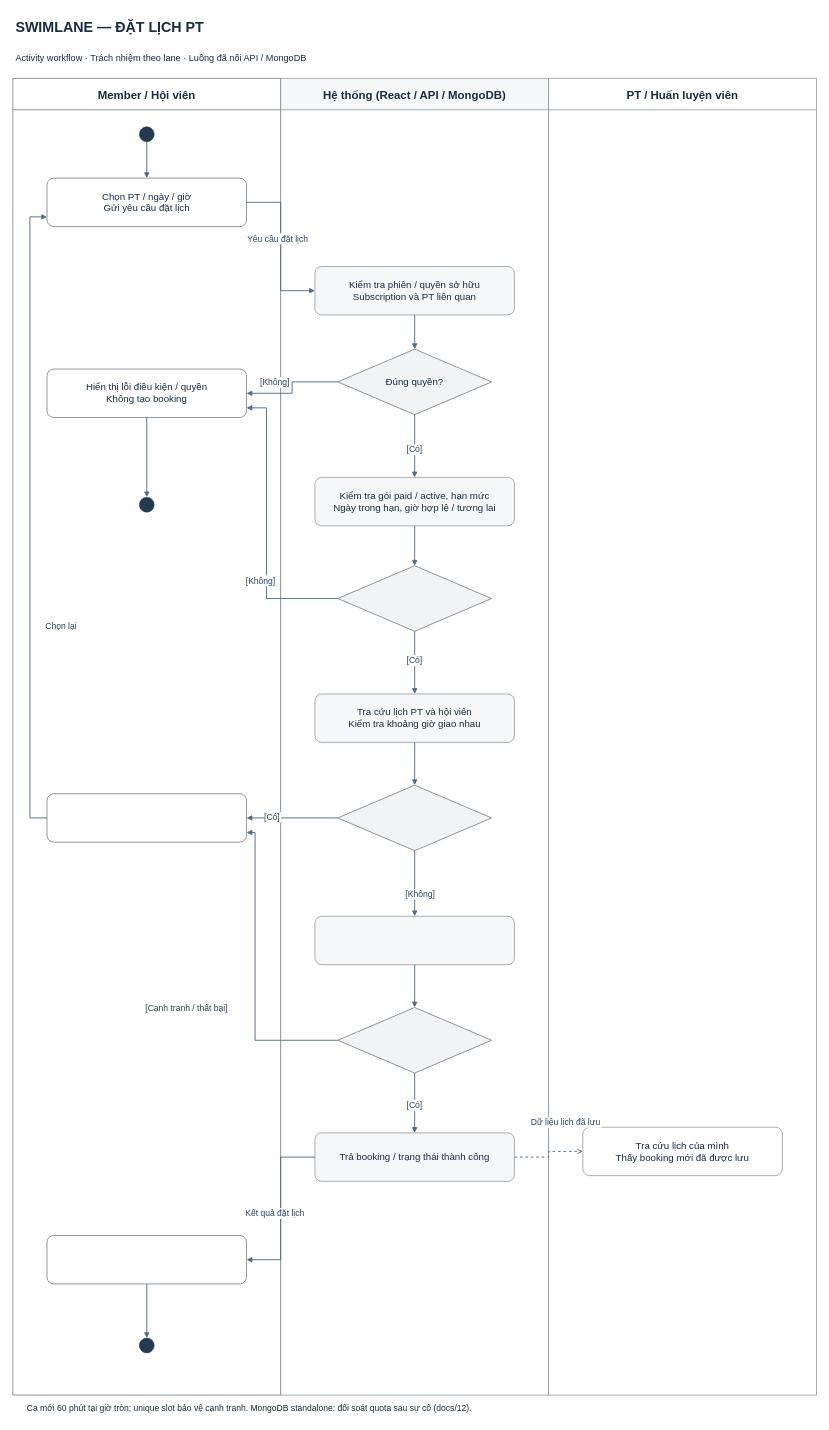
Image size: 829x1430. Some labels were removed from this diagram. Here are the shapes that lost their labels. From the top down, the centre of each, then its label:
At pixel 414 598: "Đủ điều kiện?".
At pixel 146 817: "Hiển thị lỗi (409 nếu trùng lịch) Sửa thông tin / chọn lại".
At pixel 414 818: "Có xung đột?".
At pixel 414 940: "Giữ quota có điều kiện Lưu Booking booked bằng unique slot".
At pixel 414 1040: "Ghi thành công?".
At pixel 146 1259: "Xem lịch đã đặt".
